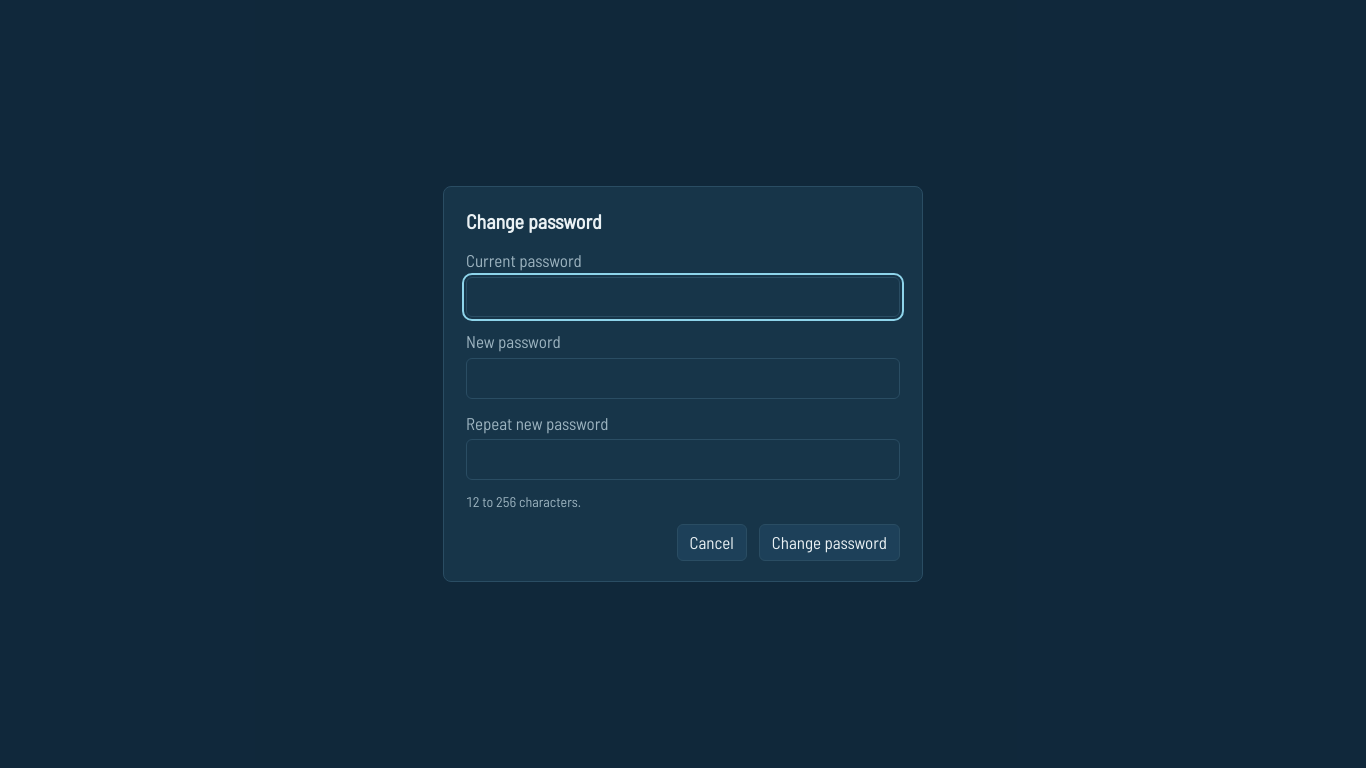
PasswordDialog › refuses a new password that is too short without a request
This screenshot has width=1366, height=768.
In the password field labelled "Current password": (683, 297) [466,277,900,317], type "old-password"
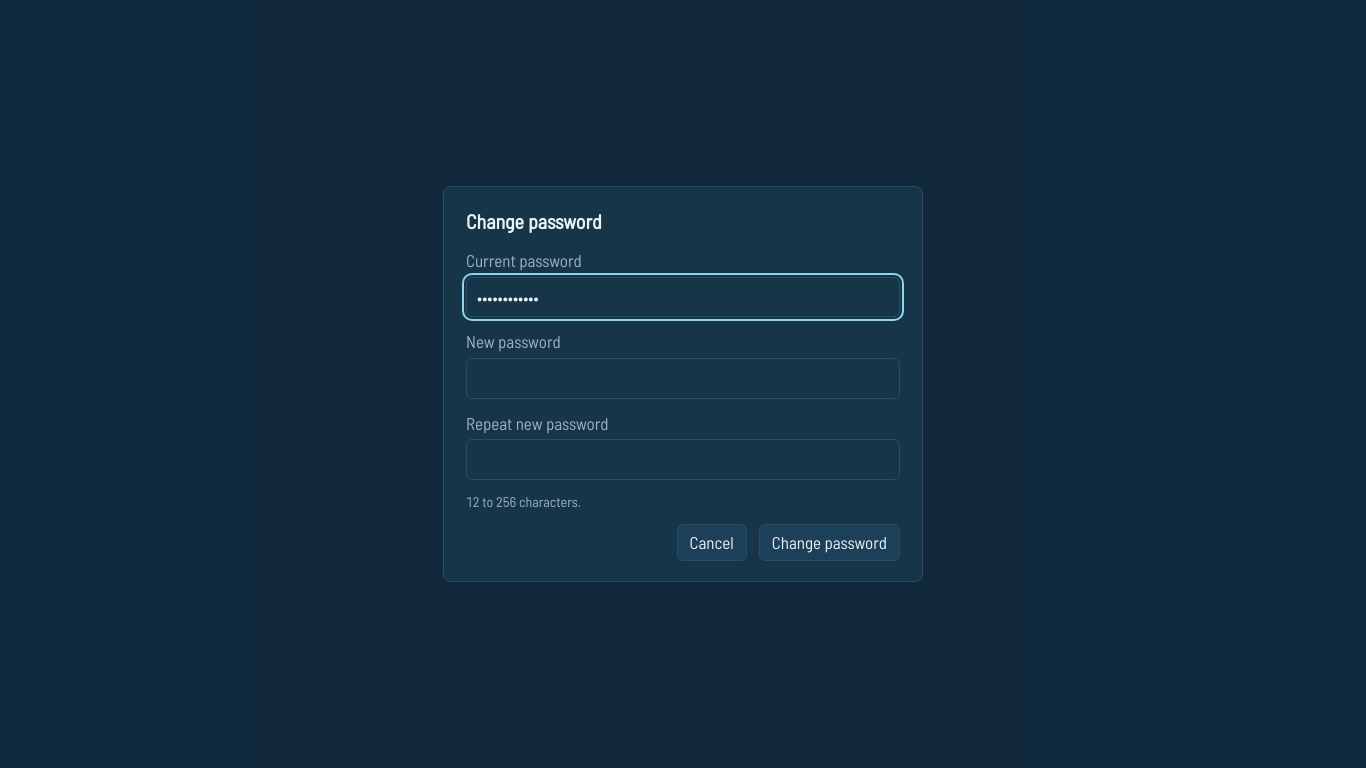
In the password field labelled "New password": (683, 378) [466,358,900,399], type "short"
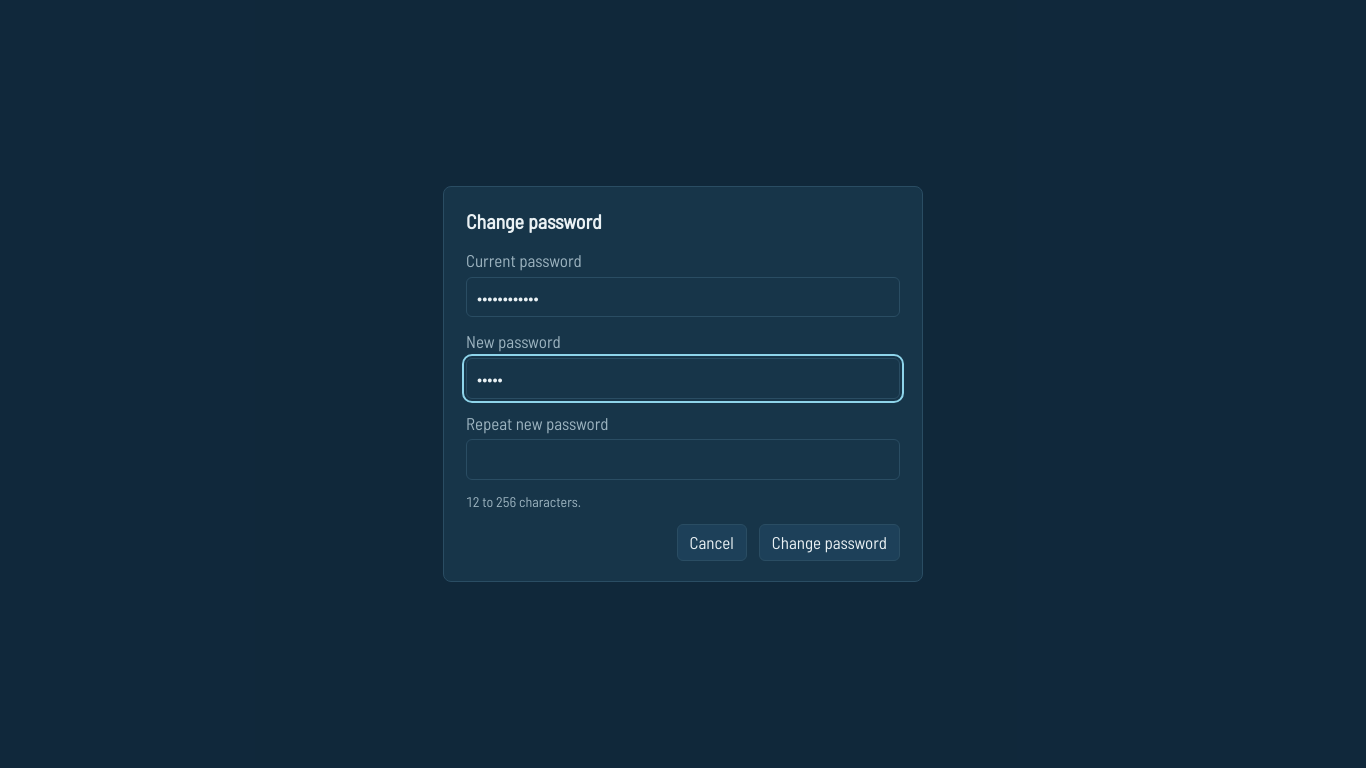
In the password field labelled "Repeat new password": (683, 460) [466,439,900,480], type "short"
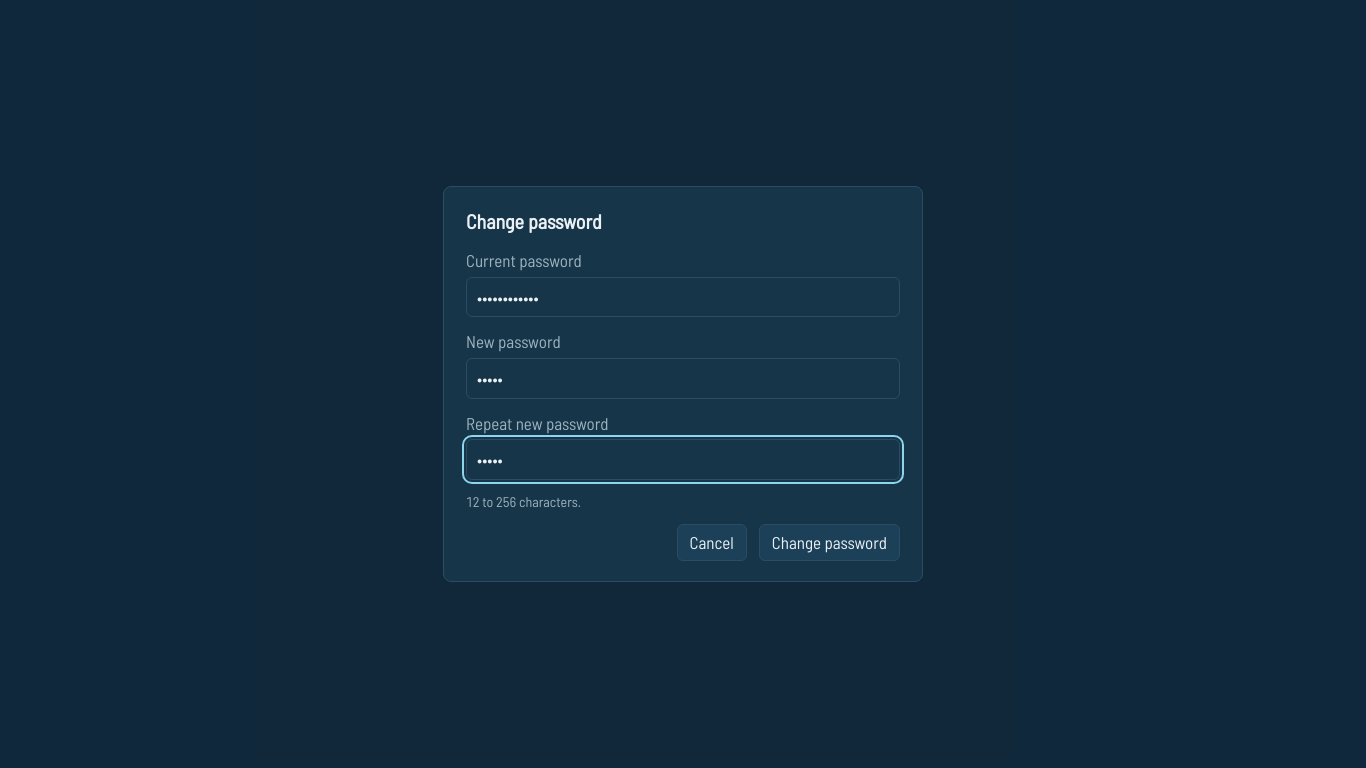
Click the button "Change password": click(829, 543) [759,524,900,561]
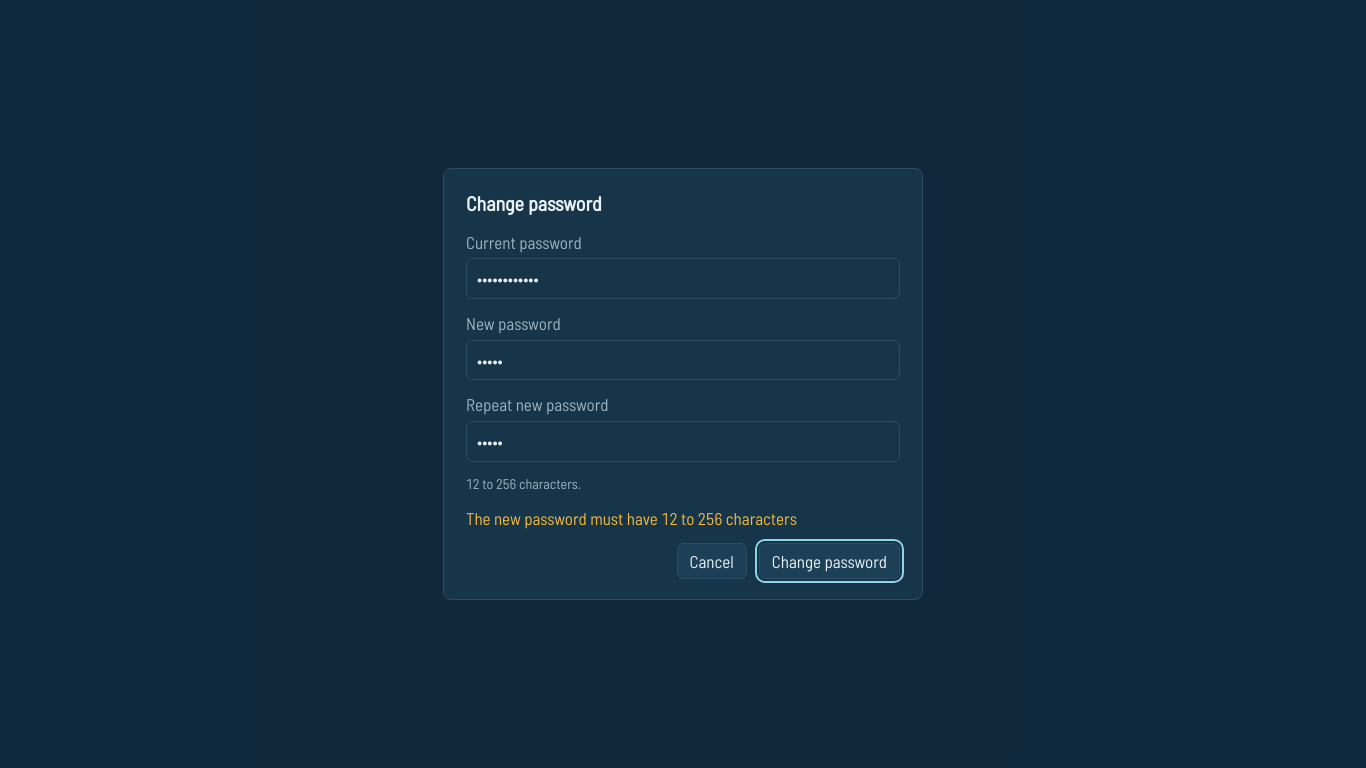
Expected: the text "The new password must have 12 to 256 characters" is shown, [466,508,797,528]
